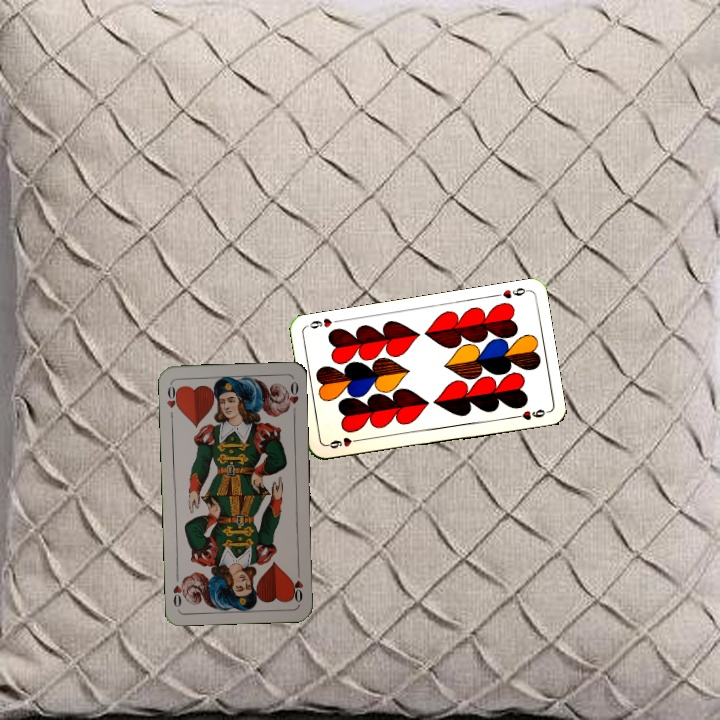H9: (323, 433, 363, 451), (490, 284, 530, 301)
HO: (163, 380, 182, 421), (288, 565, 305, 605)
